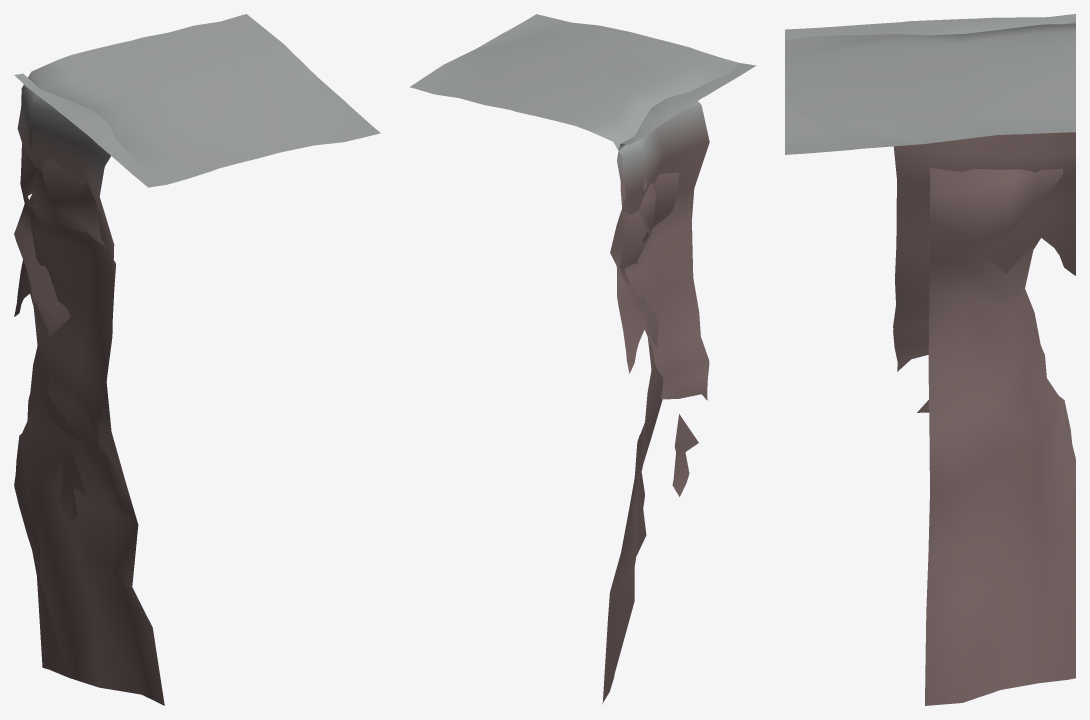
3 renders of one model, left to right at view 1: azimuth 30°, elevation 25°; view 2: azimuth 150°, elevation 25°; view 3: azimuth 270°, elevation 25°, orthographic. The views are drawn at different scales.
Parts seen in each view (by area): view 1: G:\FFXIV-MapTools\exports\u5f1\bg\ex4\04_uvs_u5\fld\u5f1\bgp (×6); view 2: G:\FFXIV-MapTools\exports\u5f1\bg\ex4\04_uvs_u5\fld\u5f1\bgp (×6); view 3: G:\FFXIV-MapTools\exports\u5f1\bg\ex4\04_uvs_u5\fld\u5f1\bgp (×5).
Boxes of the visible parts, x1=… form: G:\FFXIV-MapTools\exports\u5f1\bg\ex4\04_uvs_u5\fld\u5f1\bgp (×6): x1=14, y1=14, x2=380, y2=705; G:\FFXIV-MapTools\exports\u5f1\bg\ex4\04_uvs_u5\fld\u5f1\bgp (×6): x1=409, y1=14, x2=756, y2=704; G:\FFXIV-MapTools\exports\u5f1\bg\ex4\04_uvs_u5\fld\u5f1\bgp (×5): x1=785, y1=14, x2=1075, y2=705.
Size of the model in its own units: 128 by 319 by 128.
